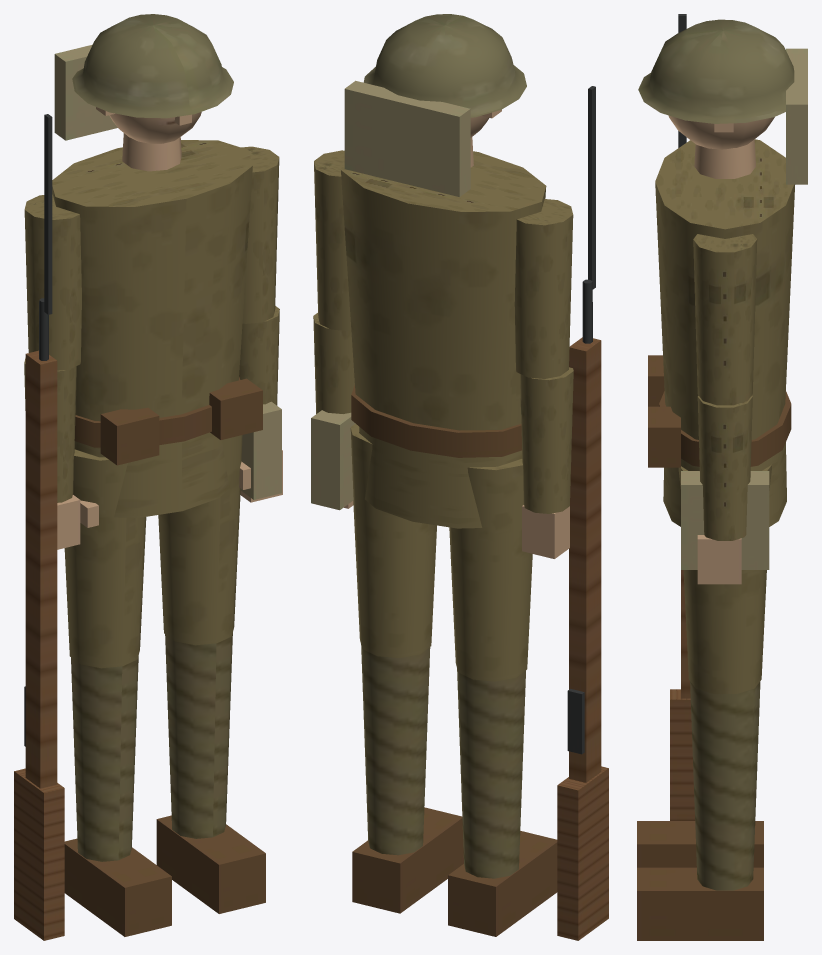
File: infantry-1.glb
3 views of the same model, side by side, from view 1: azimuth 30°, elevation 25°; view 2: azimuth 150°, elevation 25°; view 3: azimuth 270°, elevation 25° (orthographic).
Visible parts, largest first — view 1: body, rifle, head, shin_left, shin_right, leg_right, leg_left, arm_right, arm_left, forearm_right, forearm_left; view 2: body, rifle, head, shin_left, shin_right, leg_right, leg_left, arm_right, forearm_right, arm_left, forearm_left; view 3: body, shin_left, head, arm_left, leg_left, forearm_left, rifle, shin_right.
Part boxes in pixels (bbox=[...]): body: bbox=[52, 140, 281, 517]; rifle: bbox=[14, 114, 64, 940]; head: bbox=[54, 14, 233, 171]; shin_left: bbox=[156, 633, 265, 913]; shin_right: bbox=[64, 656, 171, 936]; leg_right: bbox=[64, 449, 146, 668]; leg_left: bbox=[158, 435, 242, 645]; arm_right: bbox=[24, 194, 81, 370]; arm_left: bbox=[241, 146, 279, 323]; forearm_right: bbox=[24, 358, 98, 549]; forearm_left: bbox=[239, 306, 282, 502]; body: bbox=[311, 151, 546, 528]; rifle: bbox=[557, 86, 608, 940]; head: bbox=[344, 14, 526, 196]; shin_left: bbox=[352, 646, 463, 913]; shin_right: bbox=[448, 669, 557, 936]; leg_right: bbox=[449, 459, 532, 681]; leg_left: bbox=[350, 423, 436, 657]; arm_right: bbox=[514, 199, 573, 378]; forearm_right: bbox=[520, 367, 573, 558]; arm_left: bbox=[314, 150, 351, 330]; forearm_left: bbox=[313, 313, 354, 508]; body: bbox=[648, 139, 794, 569]; shin_left: bbox=[637, 681, 763, 940]; head: bbox=[638, 19, 807, 184]; arm_left: bbox=[693, 234, 757, 405]; leg_left: bbox=[678, 464, 771, 693]; forearm_left: bbox=[697, 395, 752, 584]; rifle: bbox=[670, 14, 694, 820]; shin_right: bbox=[637, 821, 763, 867].
Bounding box in the file's own units: 0.5496 × 1.75 × 0.31.
Materials: 7 (7 with a texture image).
